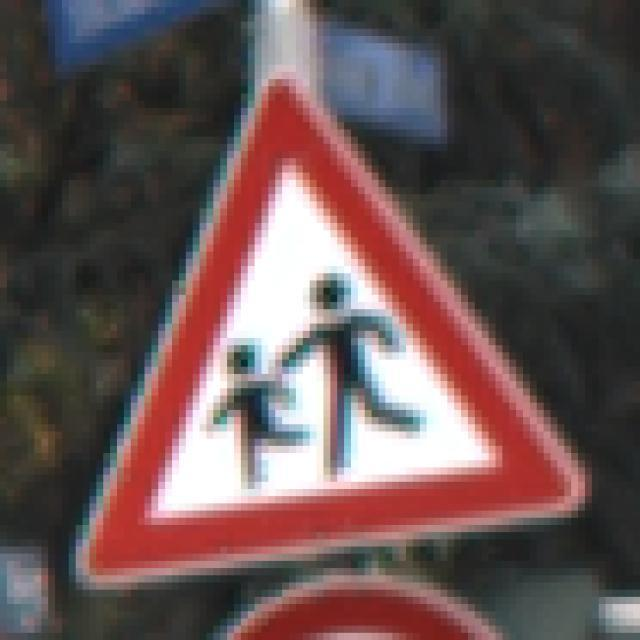school ahead: (75, 73, 590, 580)
